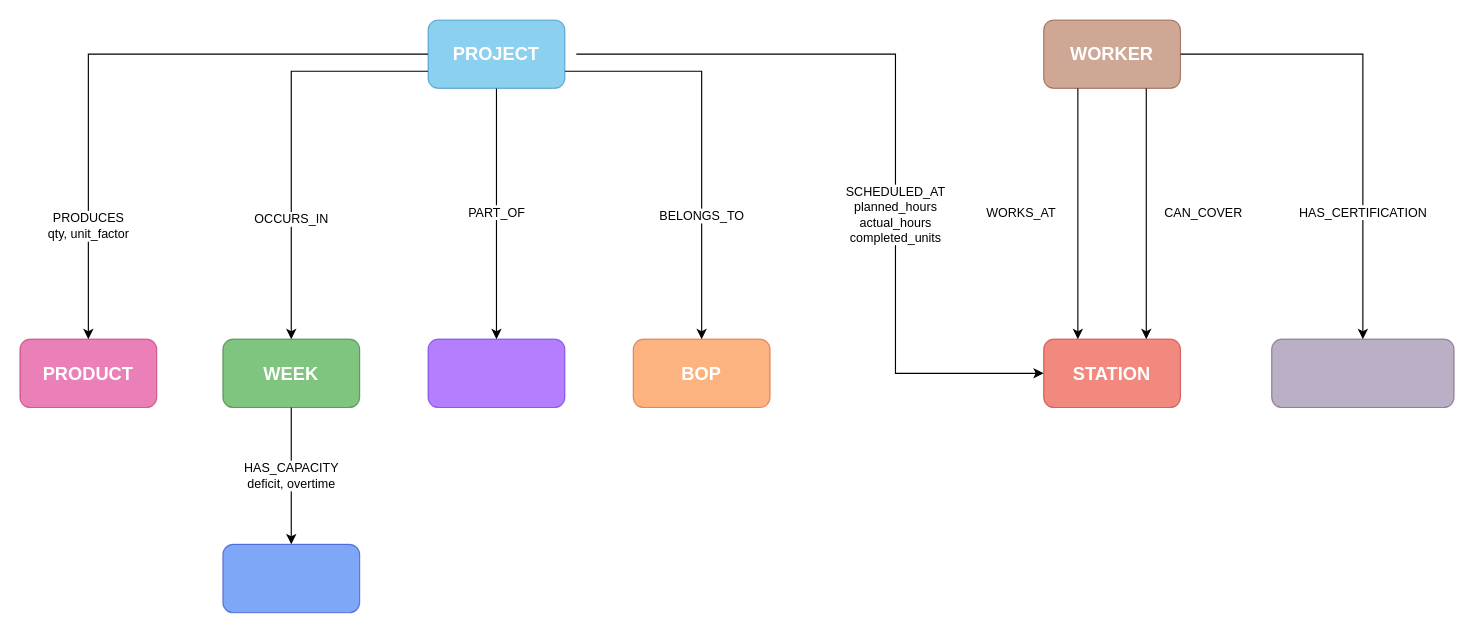
This 1474x633 diagram has some shape labels left out. The centre of each missing label's shape, as x and y in pixels:
"CAPACITY" goes at pixel 291 578.
"CERTIFICATION" goes at pixel 1362 373.
"ETAPP" goes at pixel 496 373.
